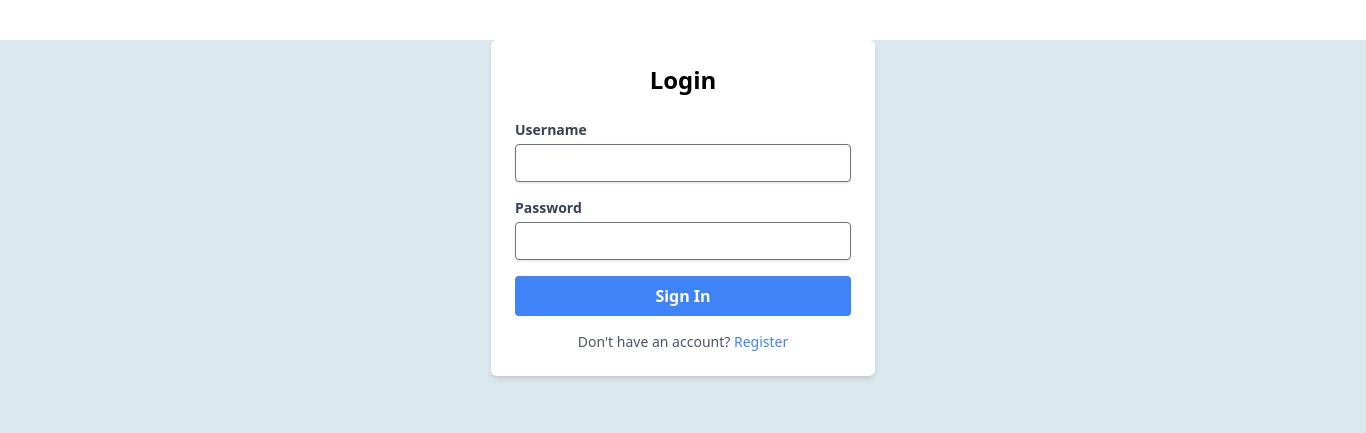
Test: <LoginForm /> › shows generic error for unexpected status
Type "testUser" into the field labelled "Username".
click(683, 163); type("testUser")  # box [515,144,851,182]
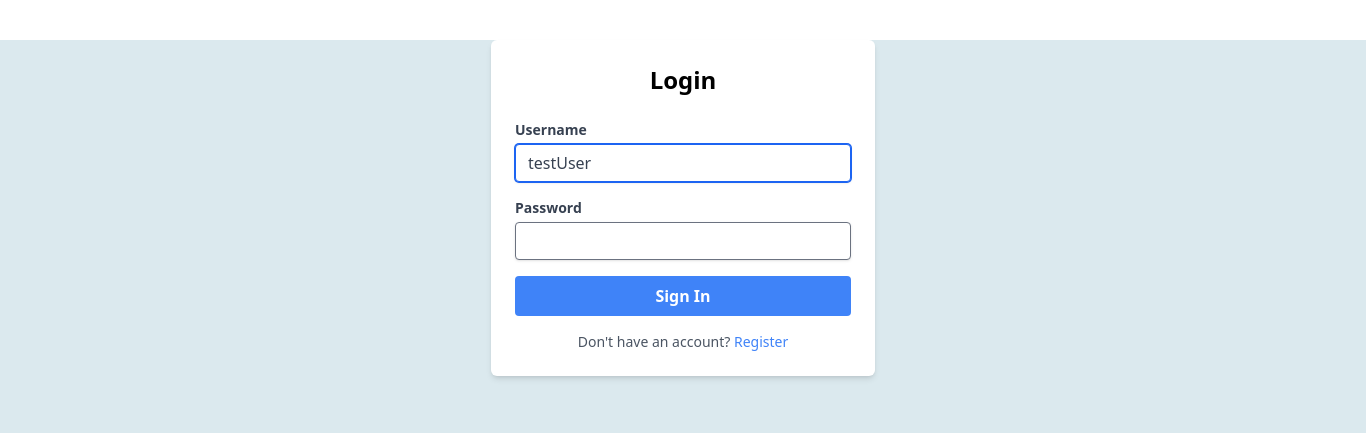
Type "testPwd1" into the password field labelled "Password".
click(683, 241); type("testPwd1")  # box [515,222,851,260]
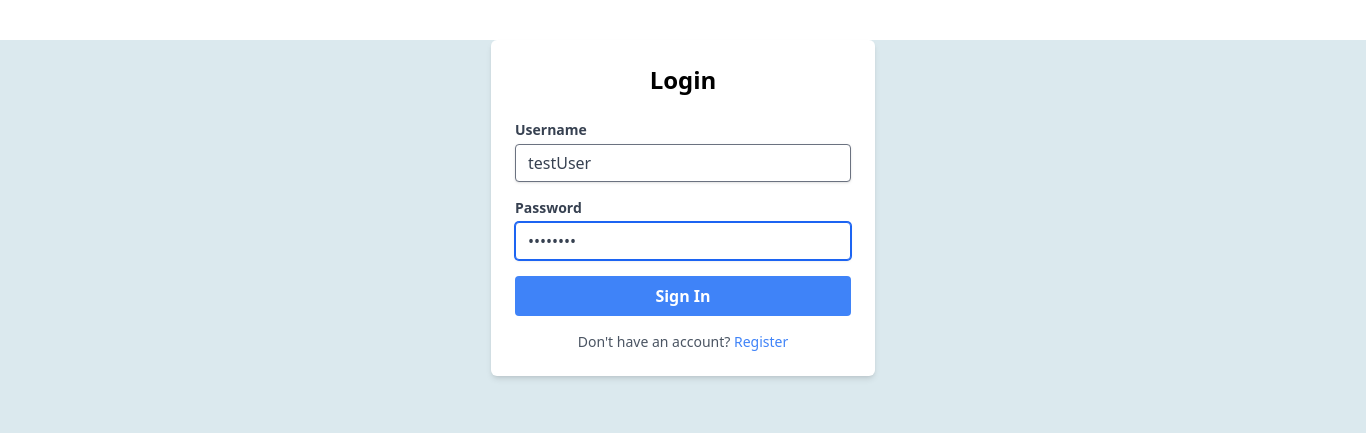
Click the button "Sign In".
click(683, 296)  # box [515,276,851,316]
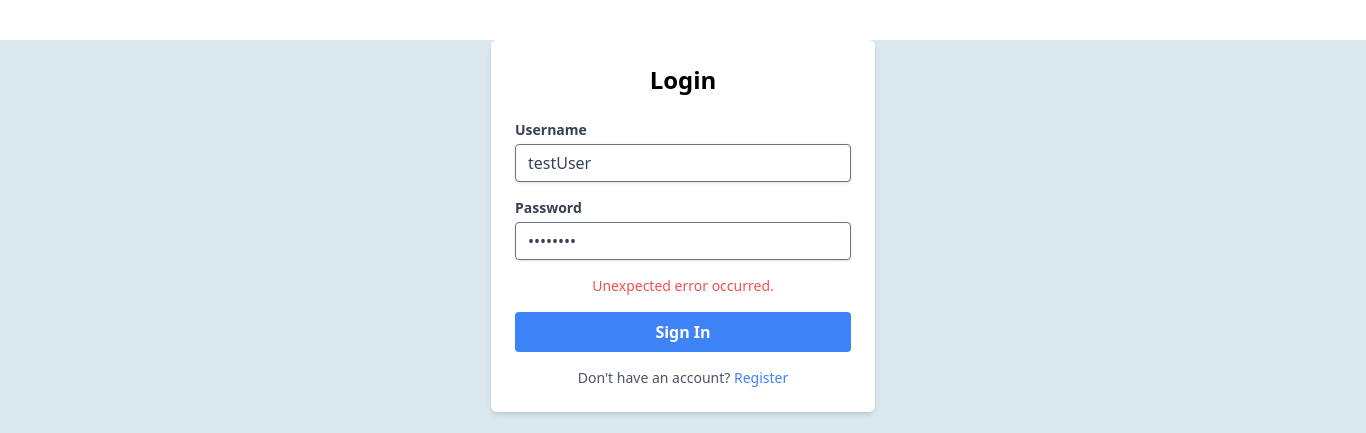
Expected: the text "Unexpected error occurred." is shown, [592,276,774,295]
